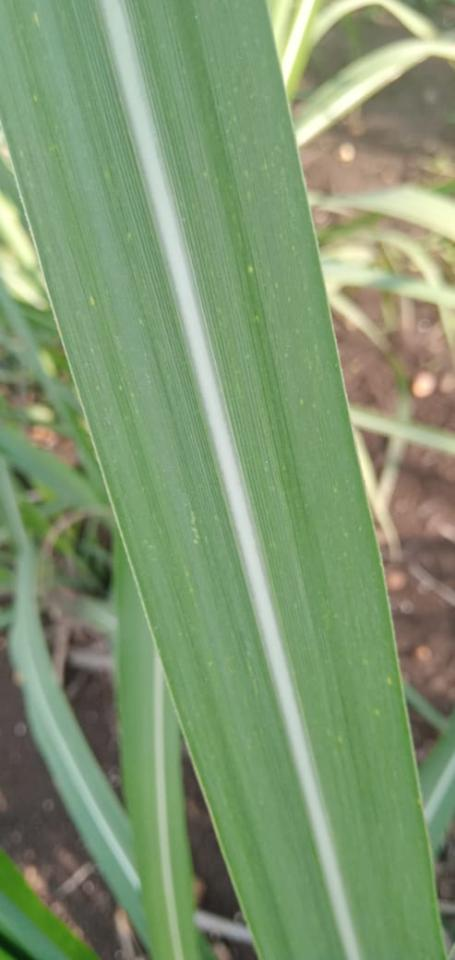Healthy: (0, 0, 347, 959), (126, 0, 448, 959)
